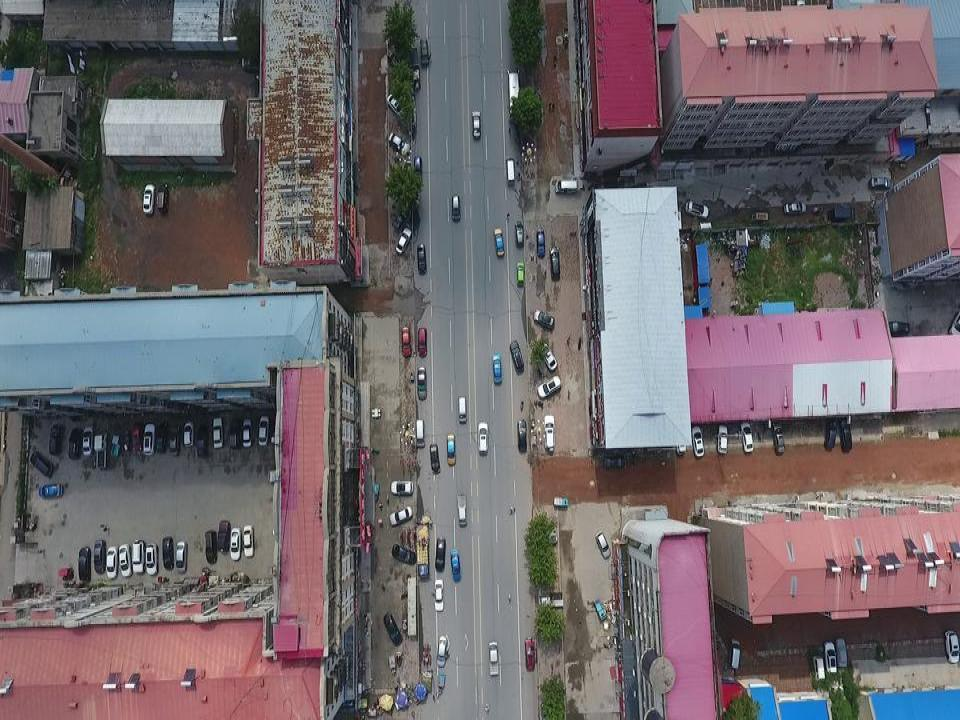bus: (507, 70, 521, 122)
car: (384, 612, 402, 647), (30, 454, 54, 478), (823, 640, 836, 683), (537, 377, 561, 400), (93, 540, 108, 576), (392, 545, 416, 567), (539, 343, 557, 372), (387, 93, 405, 120), (835, 636, 848, 672), (595, 531, 611, 560), (534, 309, 555, 331), (161, 536, 174, 571), (77, 548, 90, 583), (395, 226, 411, 254), (48, 426, 62, 458), (449, 549, 462, 583), (118, 543, 131, 577), (389, 508, 412, 527), (686, 200, 709, 219), (510, 341, 524, 372), (68, 428, 81, 461), (167, 424, 180, 457), (945, 631, 958, 664), (143, 421, 155, 456), (155, 420, 167, 455), (212, 417, 224, 452), (389, 134, 410, 154), (204, 530, 217, 562), (544, 415, 555, 452), (841, 416, 852, 453), (740, 423, 754, 452), (477, 421, 489, 454), (773, 423, 785, 456), (393, 207, 411, 229), (82, 424, 93, 459), (242, 526, 254, 558), (145, 544, 157, 576), (218, 520, 230, 552), (38, 485, 63, 500), (524, 637, 535, 671), (435, 539, 446, 573), (391, 482, 414, 498), (549, 247, 560, 280), (230, 528, 241, 561), (105, 547, 116, 580), (716, 425, 728, 455), (228, 419, 240, 449), (692, 426, 703, 458), (257, 414, 268, 446), (413, 156, 423, 191), (429, 444, 441, 473), (517, 419, 527, 453), (142, 184, 154, 212), (446, 435, 456, 468), (434, 580, 444, 613), (826, 419, 836, 452), (176, 543, 187, 573), (133, 540, 143, 573), (242, 417, 252, 450), (157, 183, 168, 213), (675, 425, 686, 455), (492, 352, 502, 384), (437, 636, 447, 668), (419, 39, 430, 68), (402, 325, 411, 360), (783, 203, 807, 216), (417, 245, 427, 276), (494, 227, 504, 258), (196, 428, 206, 459), (868, 178, 893, 190), (536, 231, 546, 258), (418, 328, 427, 357), (452, 195, 461, 224), (418, 368, 426, 400), (472, 112, 481, 140), (514, 220, 523, 248), (184, 423, 194, 448), (132, 425, 141, 452), (516, 262, 524, 286)
truck: (416, 523, 428, 577), (406, 45, 420, 88), (93, 432, 107, 469), (487, 642, 500, 678), (539, 594, 564, 610), (456, 492, 467, 525)
van: (813, 656, 826, 688), (728, 638, 739, 674), (555, 179, 582, 193), (829, 208, 854, 221), (507, 157, 516, 187), (416, 419, 424, 448), (458, 396, 466, 424)
